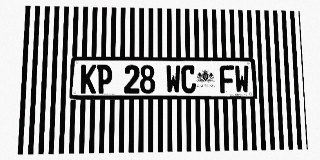2: (124, 65, 139, 93)
8: (140, 65, 155, 93)
C: (181, 65, 196, 93)
F: (219, 65, 235, 93)
K: (80, 65, 96, 94)
P: (96, 65, 112, 93)
W: (166, 65, 181, 93), (234, 65, 249, 93)
